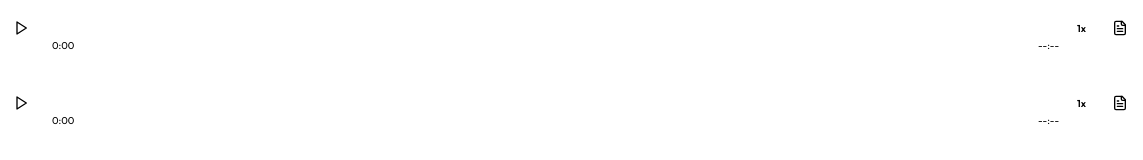
Test case: AudioMessagePlayer - Playback Speed Controls › each audio player has independent speed state
Change speed on first player only
Click the 1st button titled "Velocidade": click(1082, 29) [1071,17,1092,41]
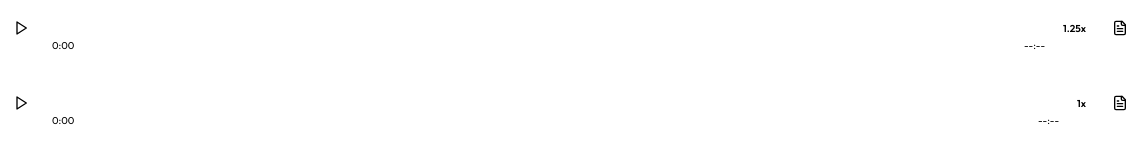
Expected: the button titled "Velocidade" reads "1x", [1071,92,1092,116]
Now the button titled "Velocidade" reads "1.25x", box [1057,17,1092,41]
